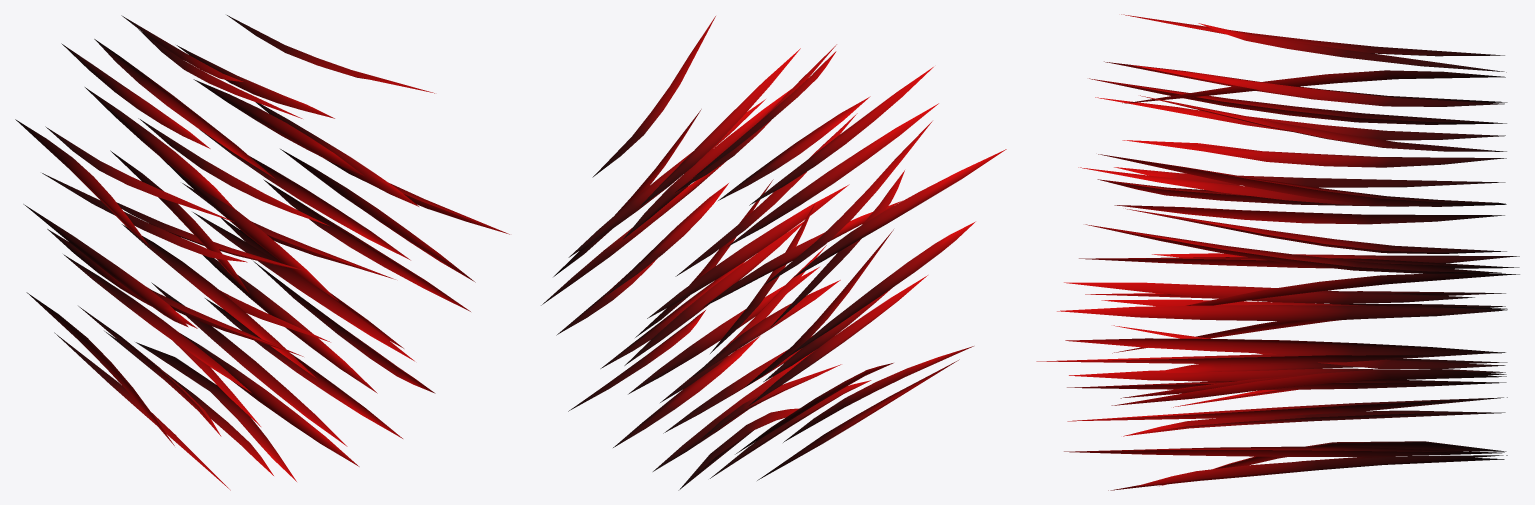
Rendered from GrassUltraMegaCool_003.fbx.
The picture shows the model from 3 angles, left to right: view 1: azimuth 30°, elevation 25°; view 2: azimuth 150°, elevation 25°; view 3: azimuth 270°, elevation 25°; orthographic projection. The views are drawn at different scales.
Parts seen in each view (by area): view 1: Grass; view 2: Grass; view 3: Grass.
Part boxes in pixels (bbox=[...]): Grass: bbox=[15, 15, 509, 490]; Grass: bbox=[541, 16, 1006, 490]; Grass: bbox=[1036, 14, 1519, 490].
Bounding box in the file's own units: 85.42 × 94.83 × 93.65.
